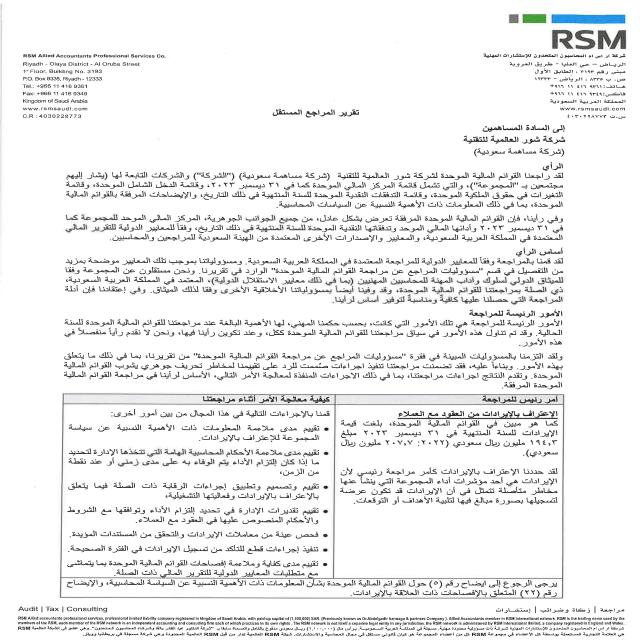auditor_report: (246, 100, 375, 134)
